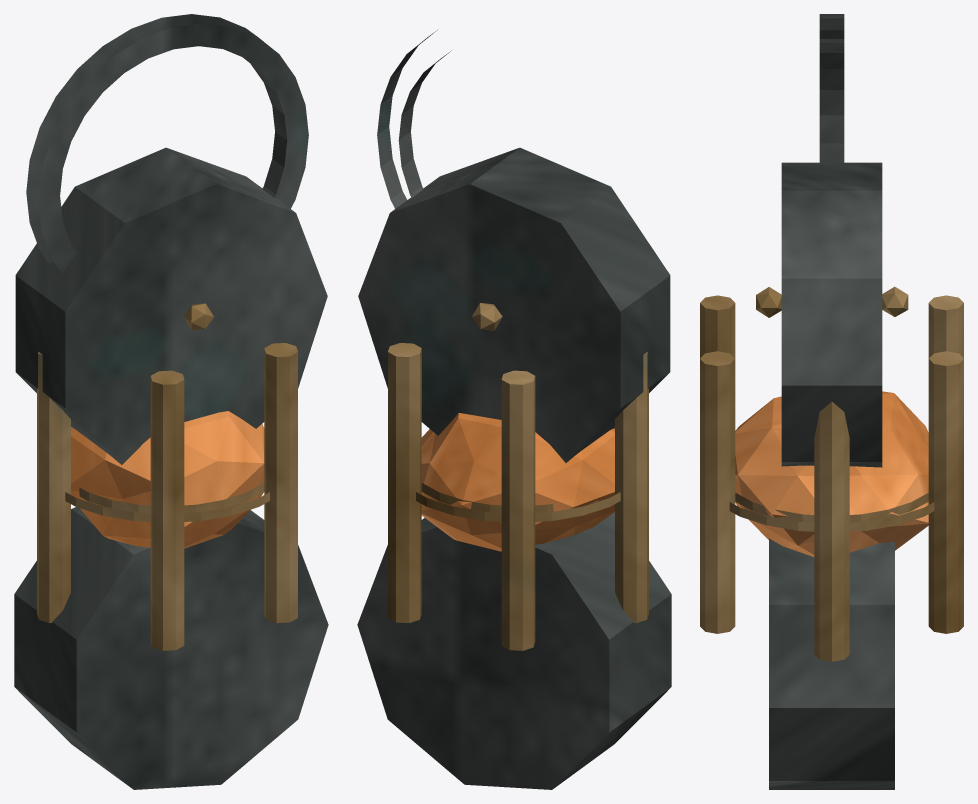
Rendered from 0921_lantern_21.glb.
3 renders of one model, left to right at view 1: azimuth 30°, elevation 25°; view 2: azimuth 150°, elevation 25°; view 3: azimuth 270°, elevation 25°, orthographic.
Visible parts, largest first — view 1: iron, brass, amber; view 2: iron, brass, amber; view 3: iron, brass, amber.
Boxes of the visible parts, x1=… form: iron: x1=14, y1=14, x2=328, y2=789; brass: x1=37, y1=303, x2=297, y2=650; amber: x1=71, y1=411, x2=264, y2=548; iron: x1=357, y1=30, x2=671, y2=789; brass: x1=388, y1=303, x2=648, y2=650; amber: x1=421, y1=413, x2=614, y2=551; iron: x1=769, y1=14, x2=894, y2=789; brass: x1=700, y1=286, x2=963, y2=661; amber: x1=735, y1=391, x2=928, y2=556.
Size of the model in its own units: 0.5 by 1.32 by 0.4197.
Materials: 3 (3 with a texture image).
